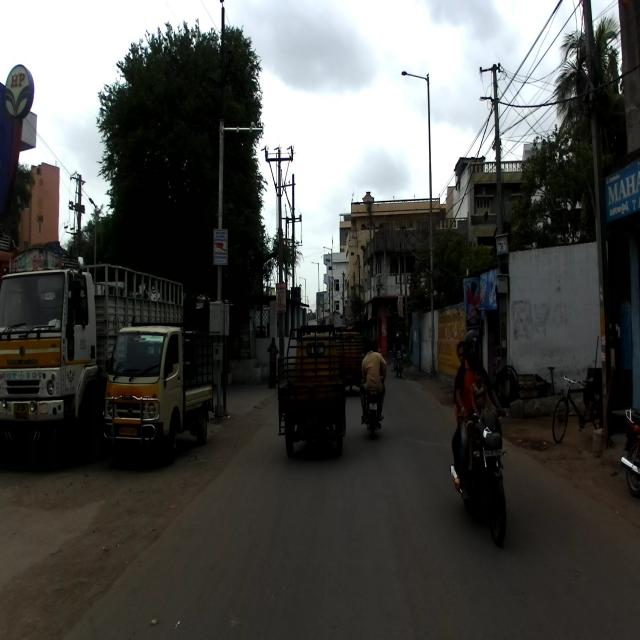autorickshaw: (276, 322, 347, 460)
motorcycle: (448, 401, 514, 544)
truck: (0, 244, 185, 477), (99, 315, 215, 468)
